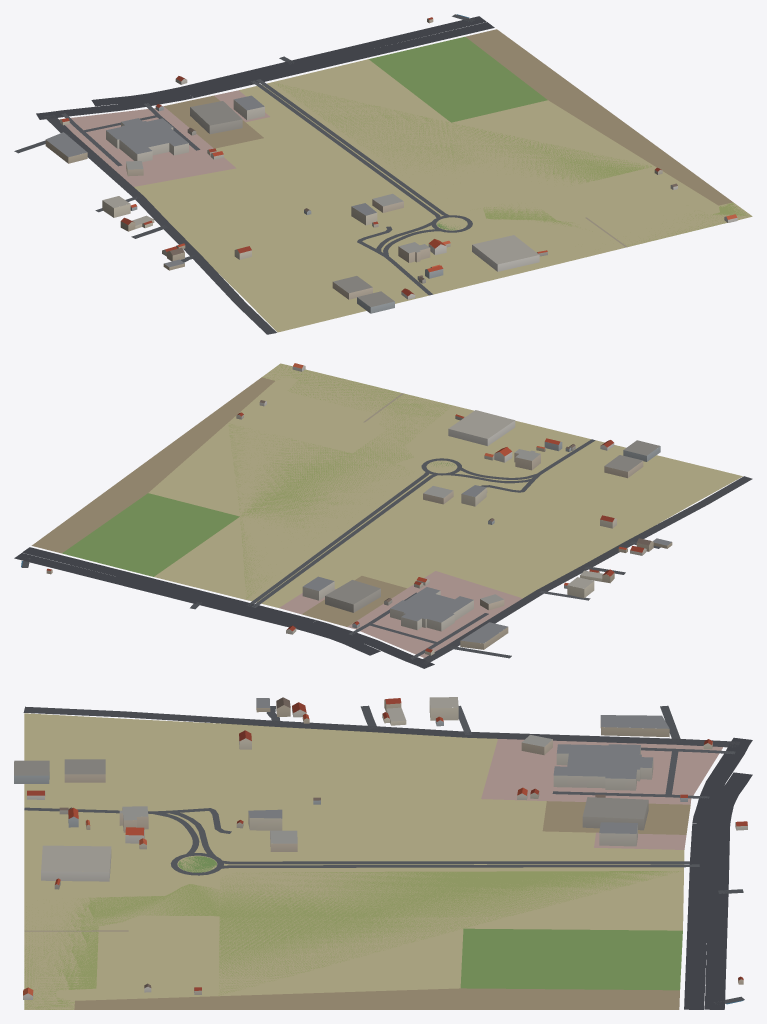
The picture shows the model from 3 angles, top to bottom: view 1: azimuth 30°, elevation 25°; view 2: azimuth 150°, elevation 25°; view 3: azimuth 270°, elevation 25°; orthographic projection. The views are drawn at different scales.
Visible parts, largest first — view 1: landuse, roads, buildings_roofs, buildings_walls; view 2: landuse, roads, buildings_roofs, buildings_walls; view 3: landuse, roads, buildings_roofs, buildings_walls.
Part boxes in pixels (x1,y1,x2,y2): landuse: (59,29,752,332); roads: (14,14,627,334); buildings_roofs: (46,17,737,306); buildings_walls: (45,18,737,313); landuse: (31,363,742,657); roads: (14,393,752,668); buildings_roofs: (47,363,671,652); buildings_walls: (46,365,672,655); landuse: (24,713,723,1009); roads: (23,705,752,1009); buildings_roofs: (14,697,747,995); buildings_walls: (14,699,747,999).
Bounding box in the file's own units: 507 × 9.73 × 514.
